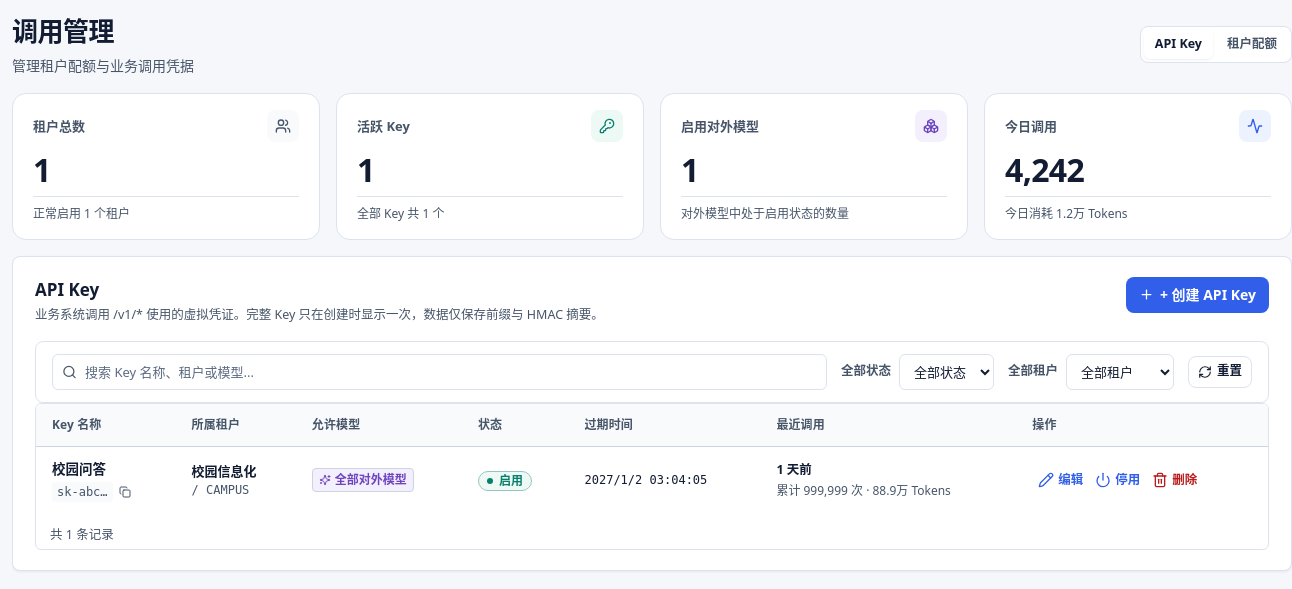
Test: CallsPage › does not refetch anything when switching between the two tabs
Check: the text "校园问答" is shown, box x1=52 y1=460 x2=106 y2=478
Click the button "租户配额": (1252, 45) x1=1216 y1=30 x2=1288 y2=59
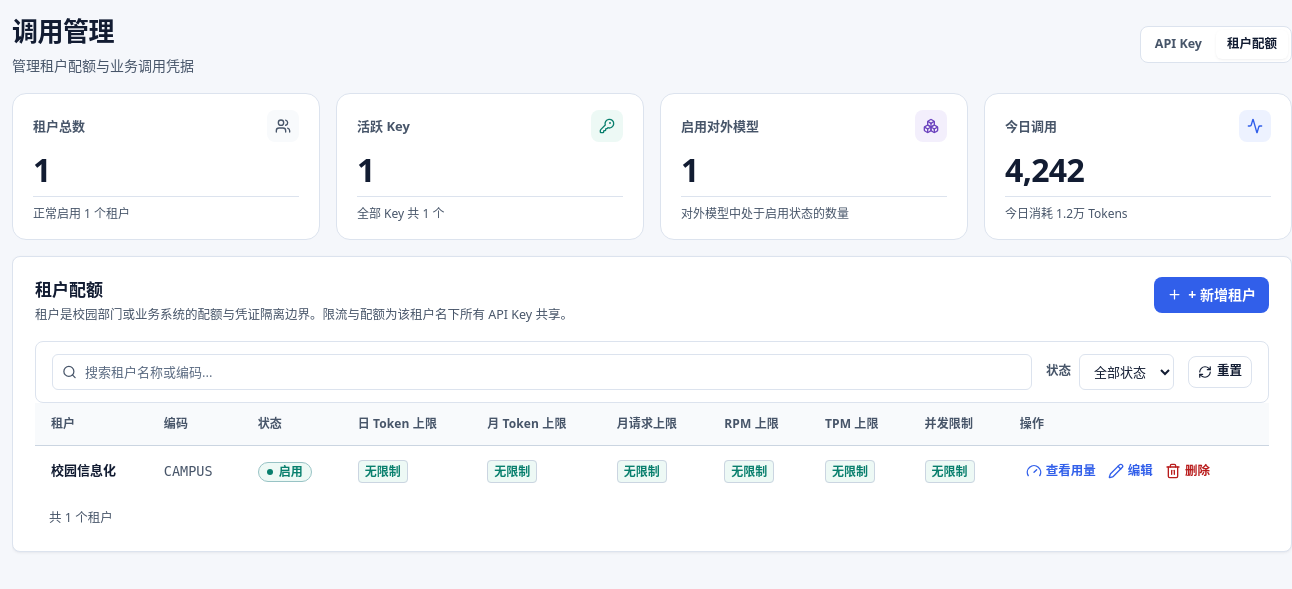
Check: the text "校园信息化" is shown, box x1=51 y1=462 x2=116 y2=480
Click the button "API Key": (1178, 45) x1=1144 y1=30 x2=1213 y2=59
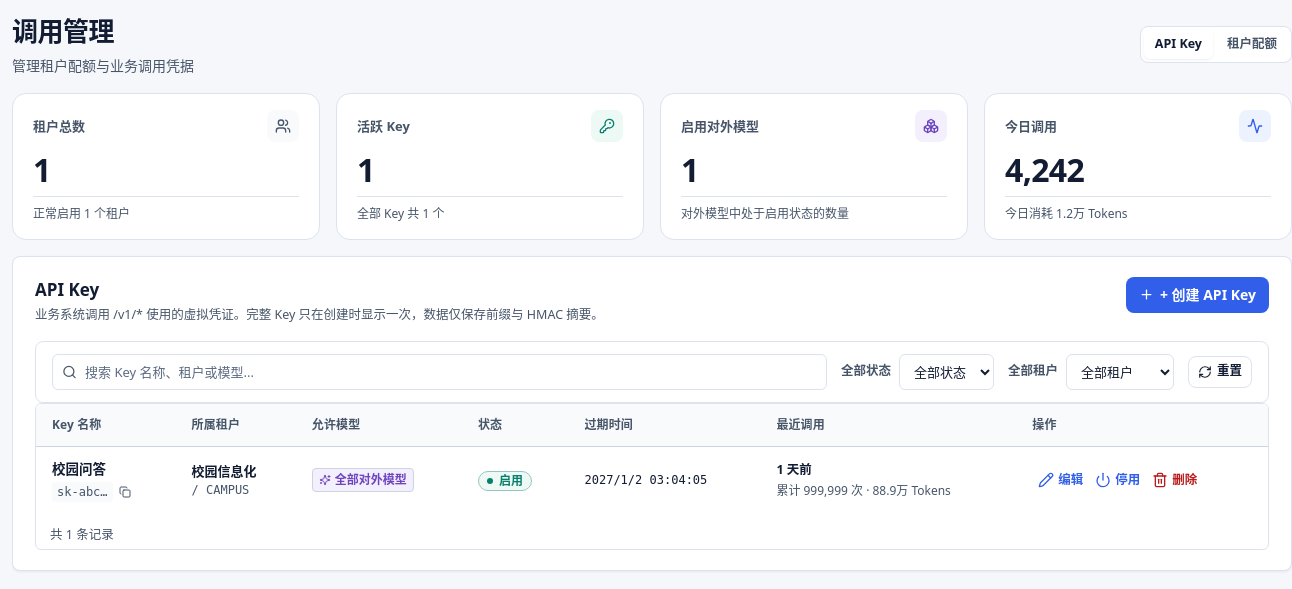
Check: the text "校园问答" is shown, box x1=52 y1=460 x2=106 y2=478
